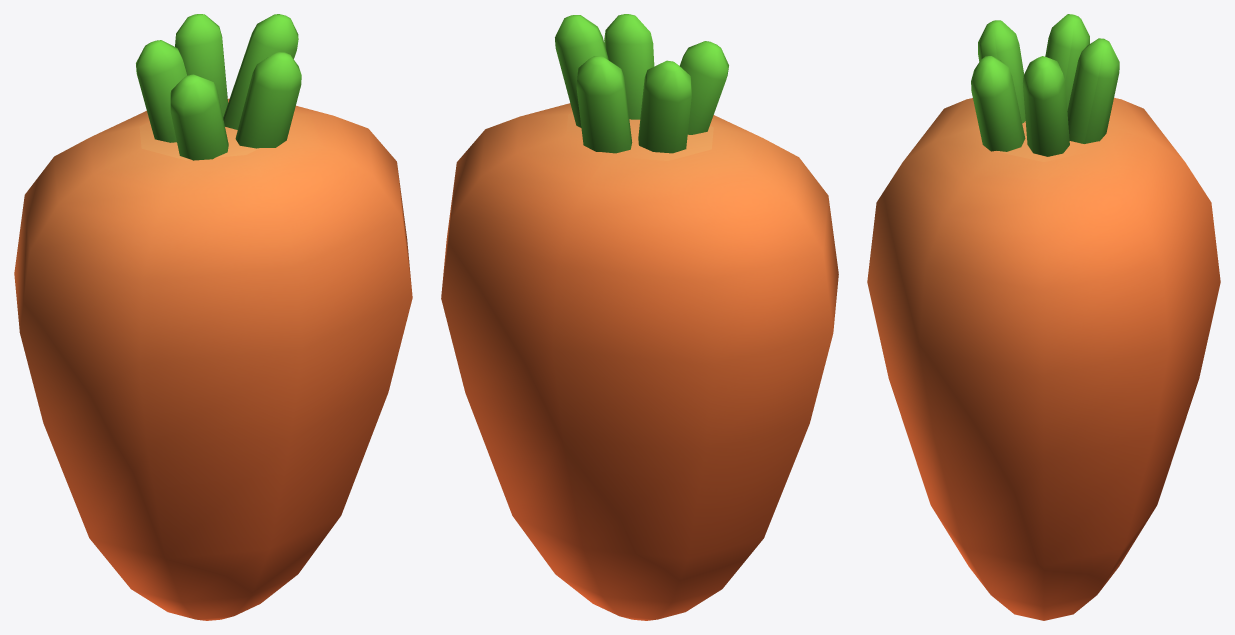
File: carrot.FBX
3 renders of one model, left to right at view 1: azimuth 30°, elevation 25°; view 2: azimuth 150°, elevation 25°; view 3: azimuth 270°, elevation 25°, orthographic.
Visible parts, largest first — view 1: carrot; view 2: carrot; view 3: carrot.
Boxes of the visible parts, box(x1,y1,x2,y2) form: carrot: box(14, 14, 412, 620); carrot: box(441, 14, 838, 620); carrot: box(867, 14, 1220, 620).
Size of the model in its own units: 26.02 by 37.44 by 20.49.
